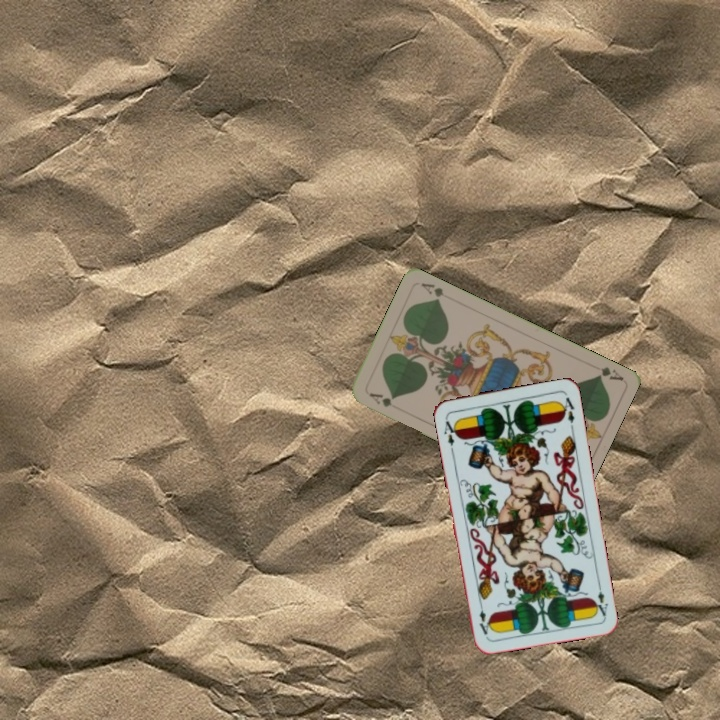EA: (590, 579, 611, 618), (440, 413, 460, 453)
GA: (365, 389, 397, 410), (594, 362, 625, 383)
